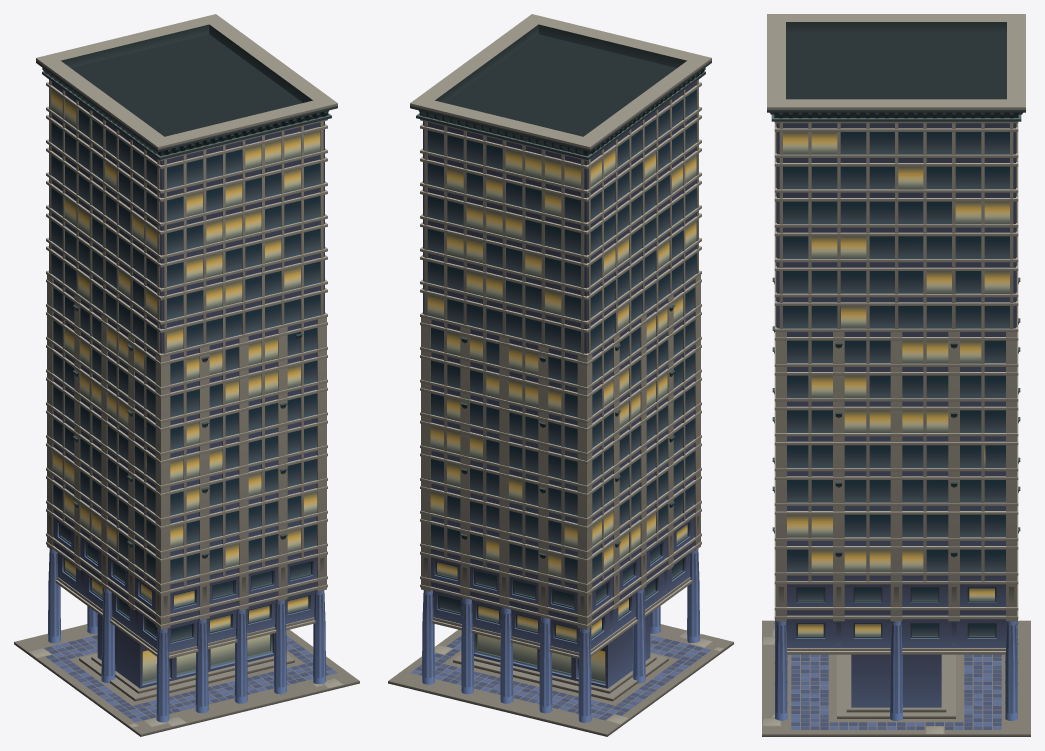
File: Skyscraper_2A.fbx
3 renders of one model, left to right at view 1: azimuth 30°, elevation 25°; view 2: azimuth 150°, elevation 25°; view 3: azimuth 270°, elevation 25°, orthographic. The views are drawn at different scales.
Parts seen in each view (by area): view 1: Skyscraper_2A, Window_Lights_Skyscraper_2A; view 2: Skyscraper_2A, Window_Lights_Skyscraper_2A; view 3: Skyscraper_2A, Window_Lights_Skyscraper_2A.
Boxes of the visible parts, <box> form: Skyscraper_2A: <box>14,14,359,736</box>; Window_Lights_Skyscraper_2A: <box>51,89,320,681</box>; Skyscraper_2A: <box>388,14,733,736</box>; Window_Lights_Skyscraper_2A: <box>427,149,696,681</box>; Skyscraper_2A: <box>762,14,1030,736</box>; Window_Lights_Skyscraper_2A: <box>783,132,1009,636</box>.
Bounding box in the file's own units: 2800 × 7120 × 2800.
